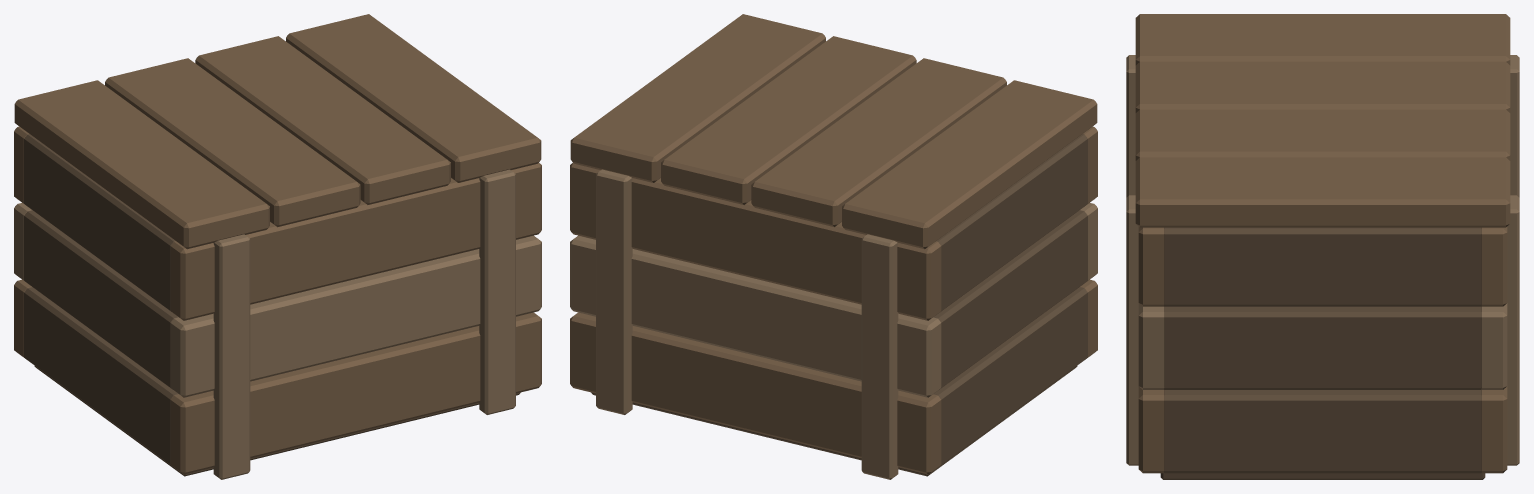
Rendered from WoodCrate01.fbx.
3 views of the same model, side by side, from view 1: azimuth 30°, elevation 25°; view 2: azimuth 150°, elevation 25°; view 3: azimuth 270°, elevation 25° (orthographic). The views are drawn at different scales.
Visible parts, largest first — view 1: Crate_Board.001, Crate_Board, Crate_Board.002, Lid_Plank, Lid_Plank.001, Lid_Plank.002, Lid_Plank.003, End_Board.001, End_Board, End_Board.002, Crate_Brace, Crate_Brace.002 (+4 smaller); view 2: Crate_Board.004, Crate_Board.003, Crate_Board.005, Lid_Plank, Lid_Plank.001, Lid_Plank.002, Lid_Plank.003, End_Board.001, End_Board, End_Board.002, Crate_Brace.001, Crate_Brace.003 (+4 smaller); view 3: End_Board.004, End_Board.003, Lid_Plank.003, End_Board.005, Lid_Plank.002, Lid_Plank.001, Lid_Plank, Crate_Brace.002, Crate_Brace.003, Crate_Bottom, Crate_Board, Crate_Board.001 (+6 smaller).
Boxes of the visible parts, x1,y1,x2,y2 form: Crate_Board.001: [170, 235, 541, 397]; Crate_Board: [170, 312, 541, 474]; Crate_Board.002: [170, 163, 541, 320]; Lid_Plank: [14, 80, 269, 249]; Lid_Plank.001: [105, 58, 360, 227]; Lid_Plank.002: [195, 36, 450, 204]; Lid_Plank.003: [286, 14, 541, 182]; End_Board.001: [24, 210, 178, 389]; End_Board: [24, 287, 178, 464]; End_Board.002: [24, 134, 175, 311]; Crate_Brace: [213, 234, 250, 479]; Crate_Brace.002: [479, 169, 515, 414]; Crate_Board.004: [570, 235, 941, 397]; Crate_Board.003: [570, 312, 941, 474]; Crate_Board.005: [570, 163, 941, 320]; Lid_Plank: [842, 80, 1097, 249]; Lid_Plank.001: [751, 58, 1006, 227]; Lid_Plank.002: [661, 36, 916, 204]; Lid_Plank.003: [570, 14, 825, 182]; End_Board.001: [933, 210, 1087, 389]; End_Board: [933, 287, 1087, 464]; End_Board.002: [936, 134, 1087, 311]; Crate_Brace.001: [861, 234, 898, 479]; Crate_Brace.003: [596, 169, 632, 414]; End_Board.004: [1164, 306, 1481, 389]; End_Board.003: [1164, 390, 1481, 473]; Lid_Plank.003: [1135, 157, 1510, 227]; End_Board.005: [1164, 227, 1481, 306]; Lid_Plank.002: [1135, 109, 1510, 160]; Lid_Plank.001: [1135, 61, 1510, 112]; Lid_Plank: [1135, 14, 1510, 65]; Crate_Brace.002: [1126, 195, 1138, 465]; Crate_Brace.003: [1507, 195, 1519, 465]; Crate_Bottom: [1160, 473, 1485, 479]; Crate_Board: [1138, 386, 1164, 473]; Crate_Board.001: [1138, 303, 1164, 389].
Size of the model in its own units: 64 by 44.5 by 55.7.
